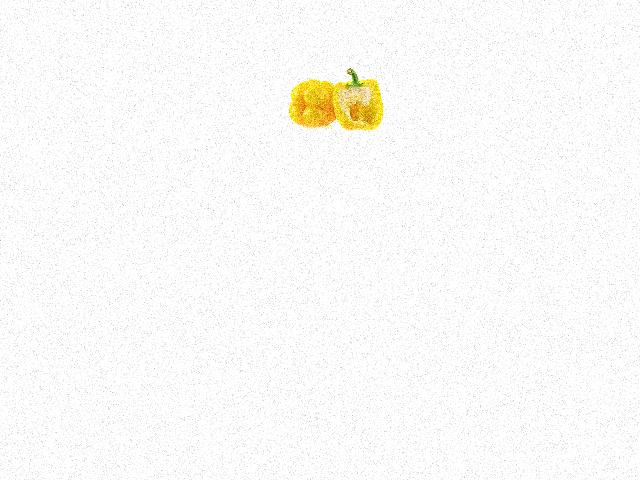bell_pepper: (323, 67, 386, 142)
